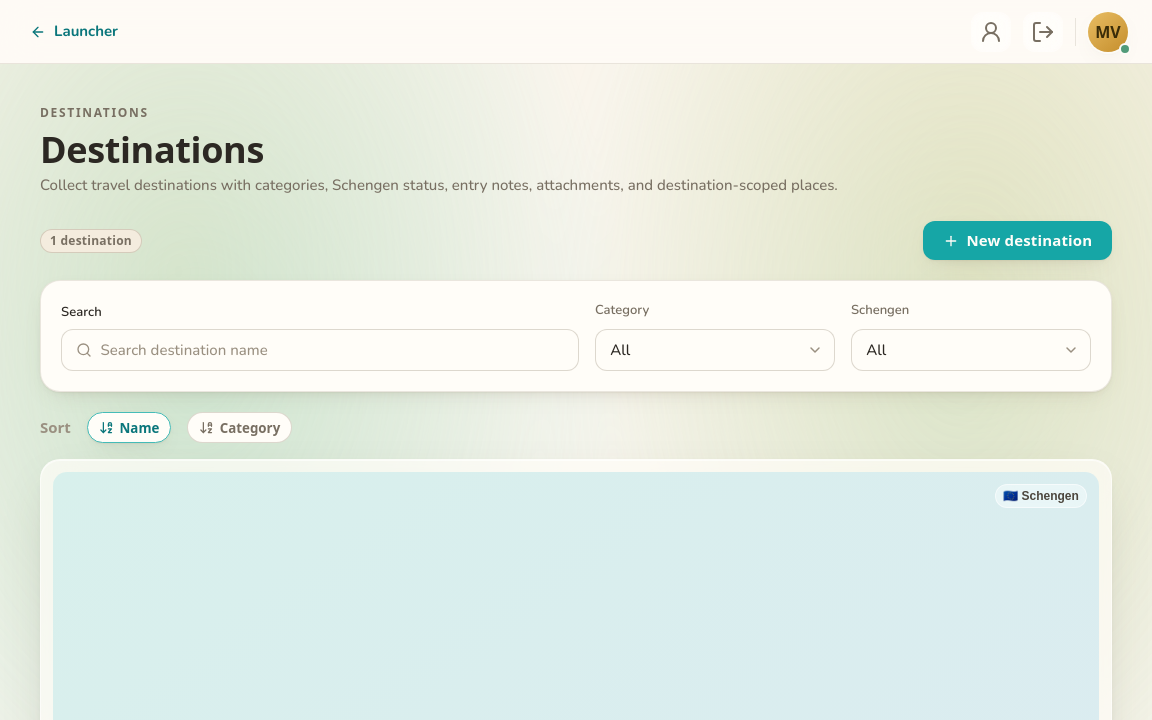
Scenario: Destinations page › opens the create dialog without losing gallery state
Step 1. Type "Destination 01" into the field labelled "Search" → {"x": 332, "y": 350}, box [100,331,564,369]
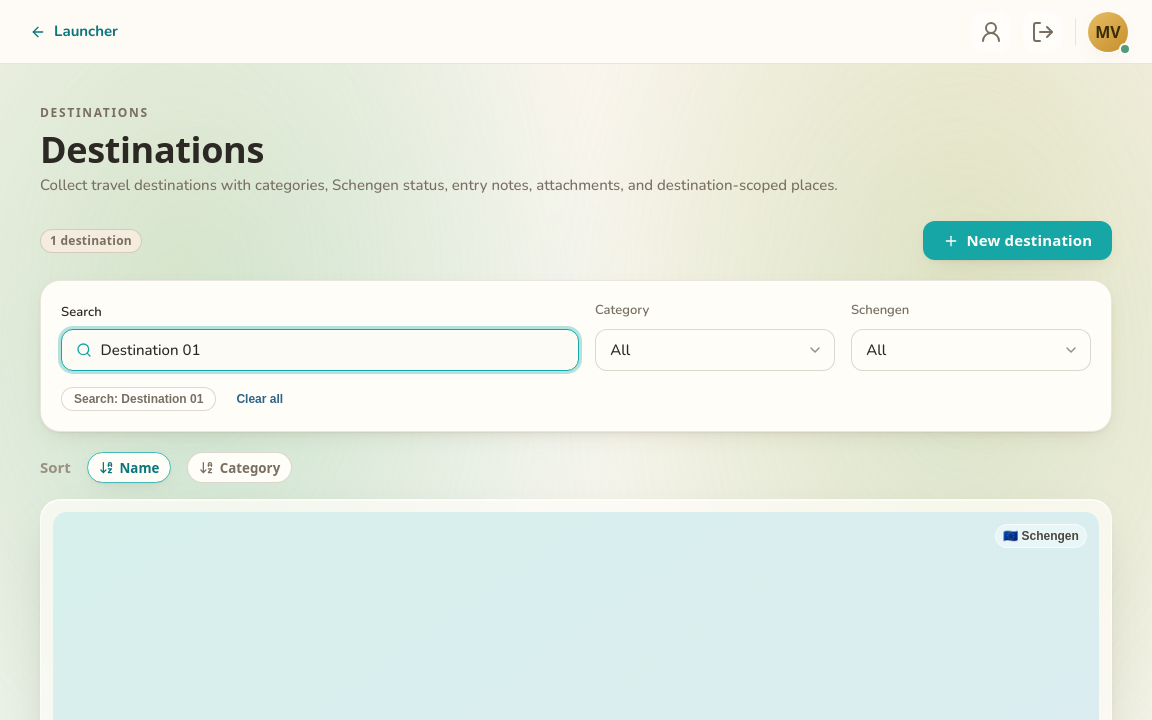
Step 2. Click the button "New destination" → {"x": 1018, "y": 241}, box [923,221,1112,260]
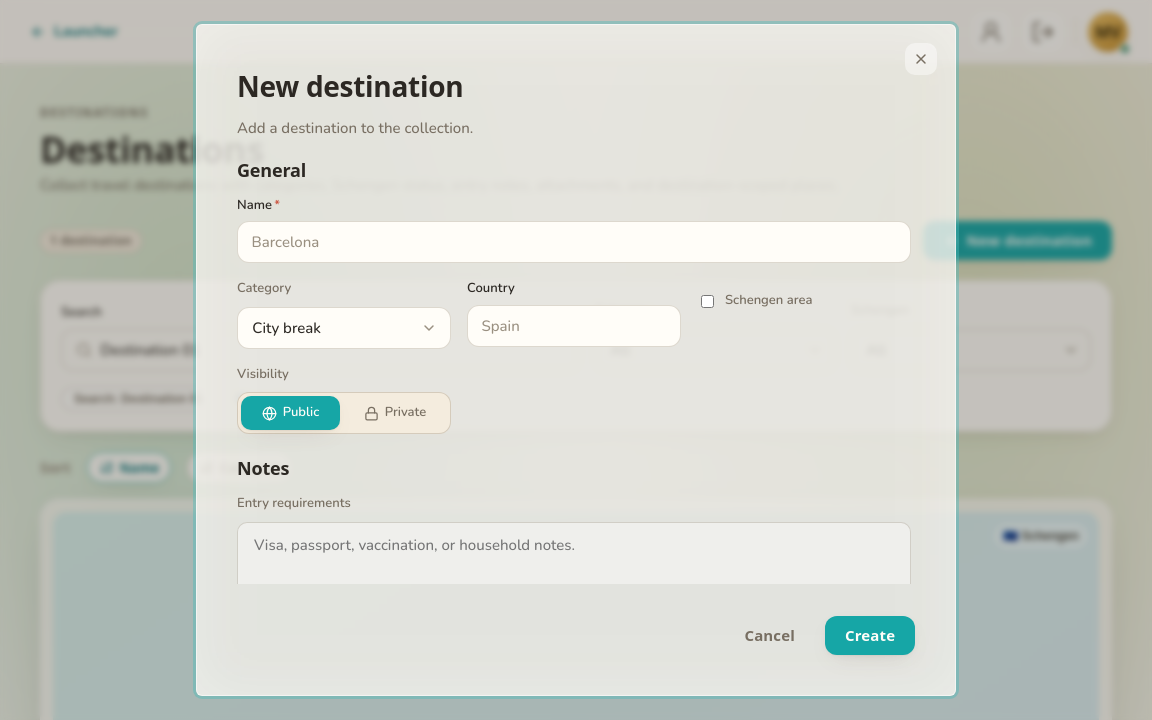
expect the dialog "New destination" is shown: met
